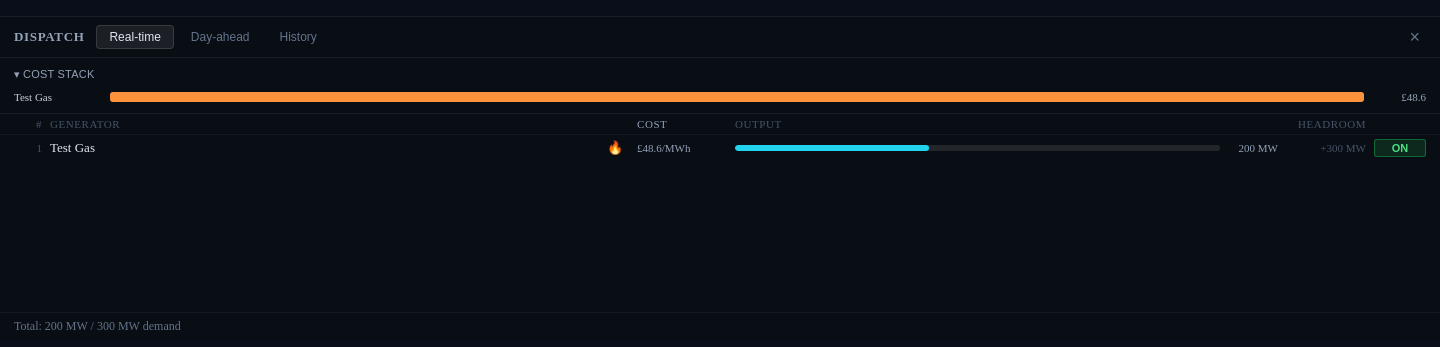
Test: DispatchPanel › Cost stack chart (#336) › collapses on toggle click
Expected: the element with test id "cost-stack-chart" is shown, top-left (14, 91), bottom-right (1426, 103)
Click the button with test id "cost-stack-toggle" at (57, 74), box top-left (14, 66), bottom-right (1426, 83)
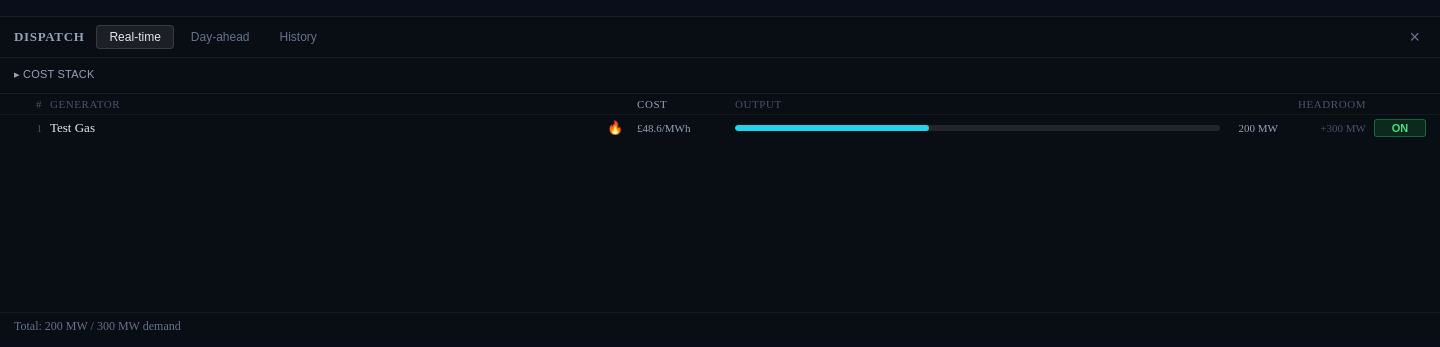
Now the element with test id "cost-stack-chart" is gone
